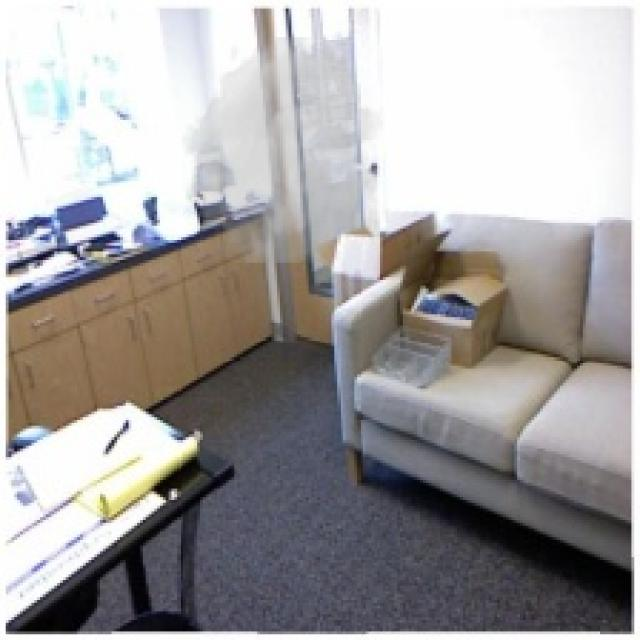smoke: (180, 37, 383, 263)
